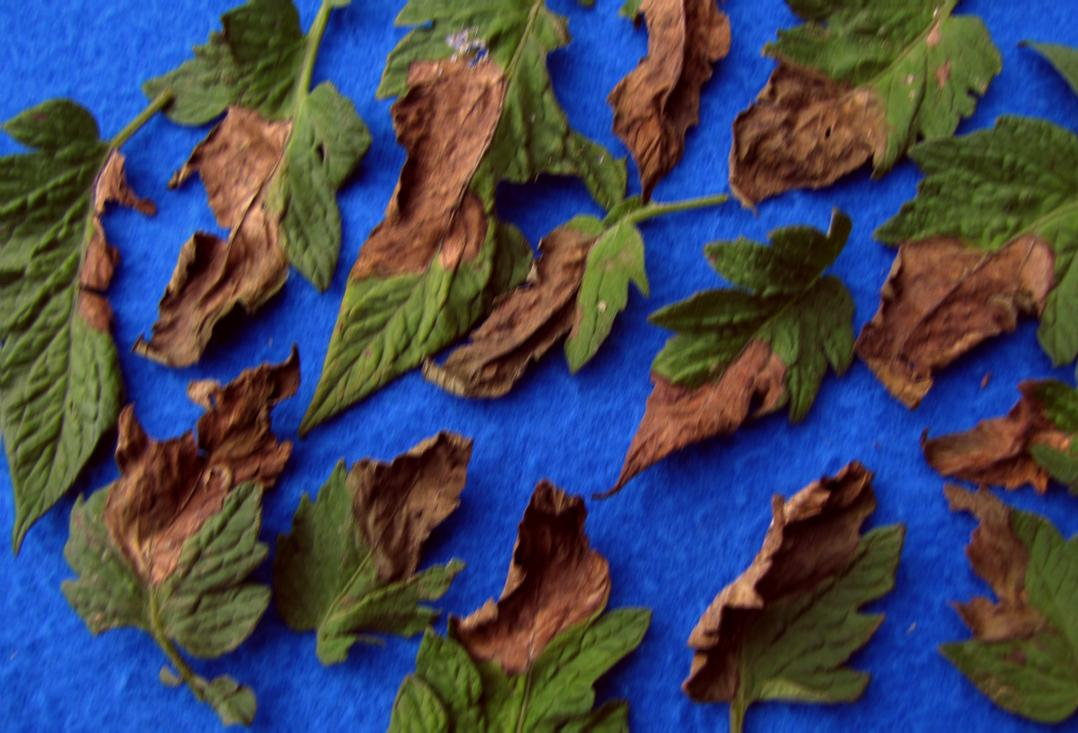Tomato leaf late blight: (314, 0, 556, 415), (59, 348, 309, 720), (138, 0, 361, 375), (362, 487, 645, 733), (667, 453, 908, 733), (0, 82, 146, 530), (616, 220, 867, 463), (724, 0, 1027, 201), (241, 426, 504, 651), (417, 203, 689, 407), (940, 481, 1078, 733), (913, 371, 1078, 501)
